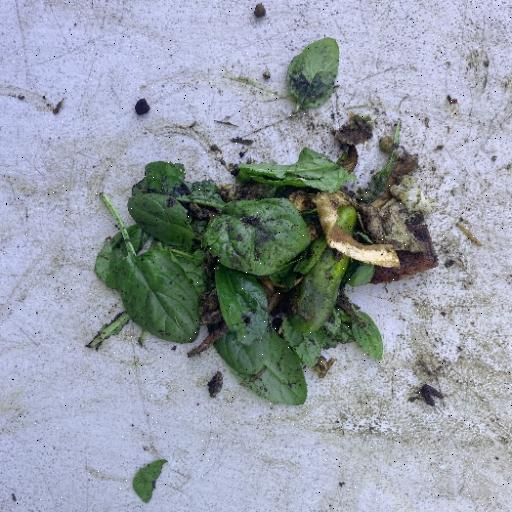Waste: (86, 112, 438, 408), (283, 35, 341, 114)
